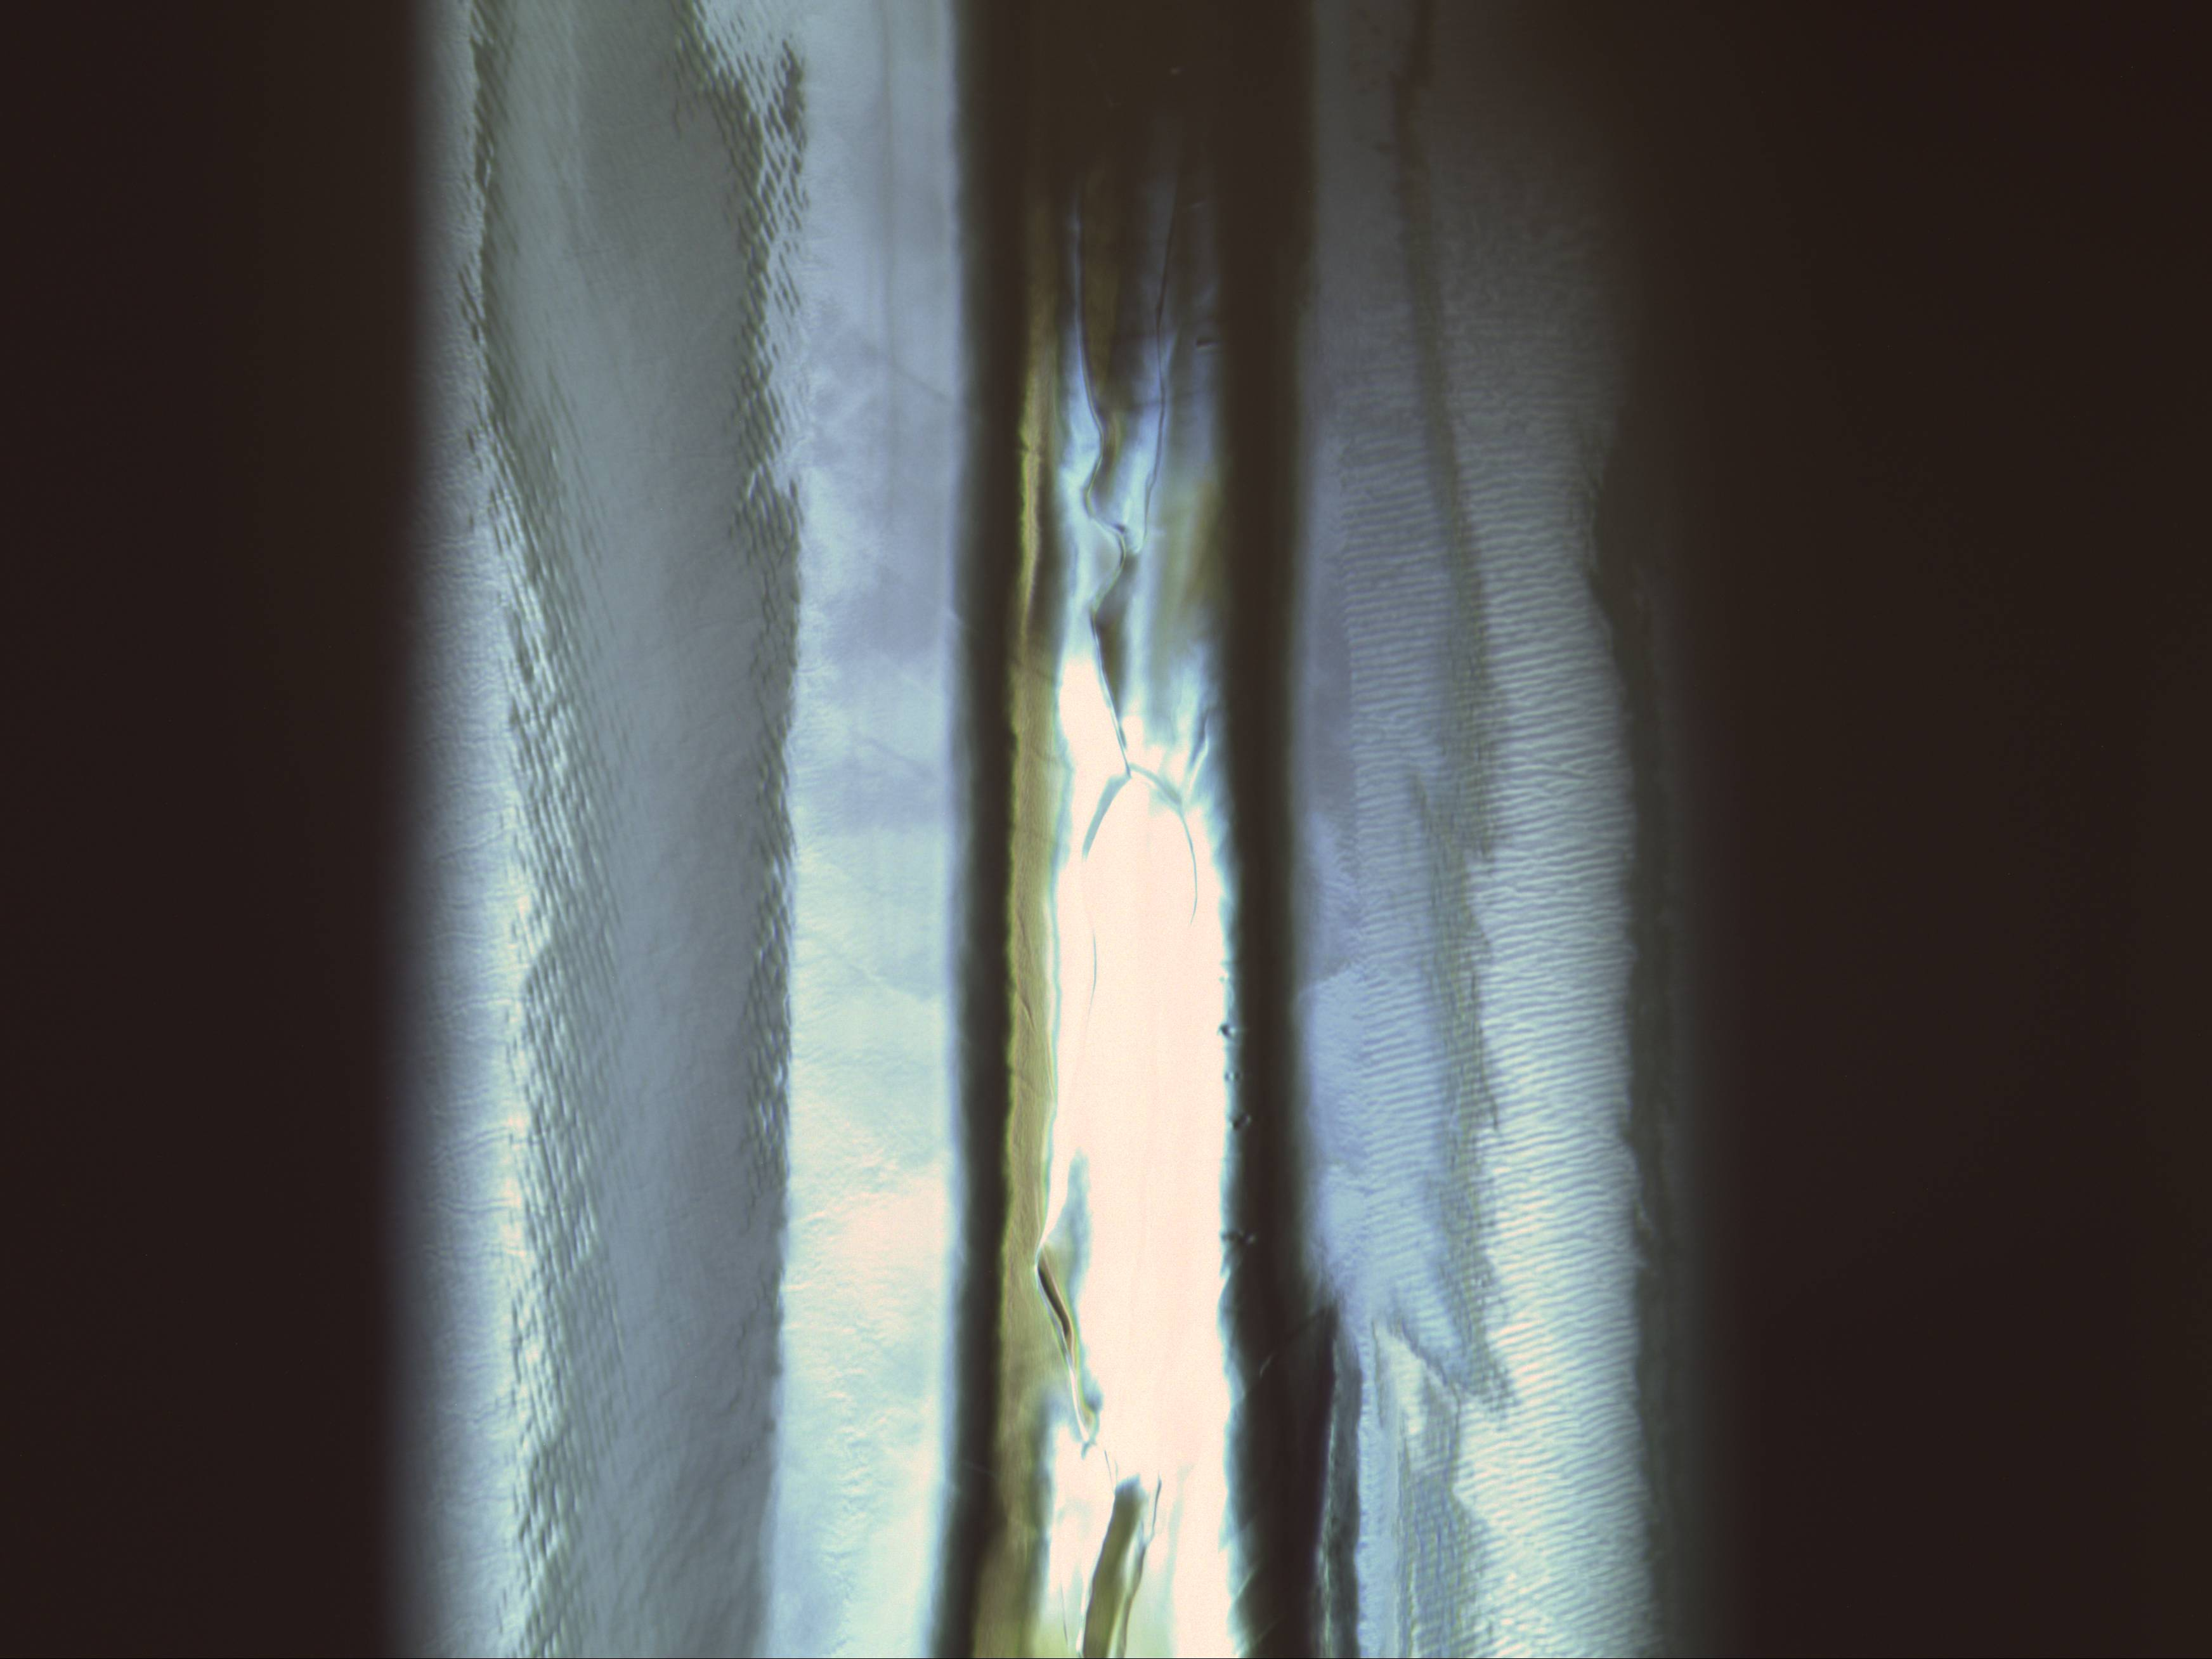defect: (1212, 1019, 1249, 1044), (1228, 1107, 1258, 1136), (1221, 1063, 1240, 1084)
